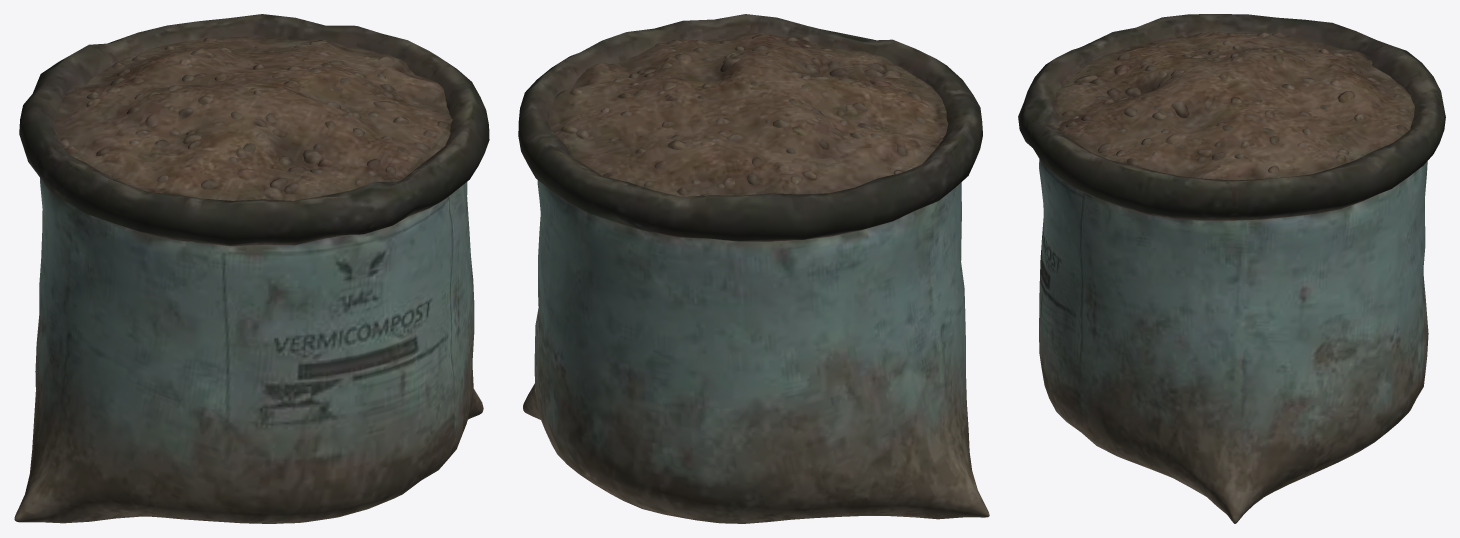
The model's file is compost_bag_02.glb.
3 renders of one model, left to right at view 1: azimuth 30°, elevation 25°; view 2: azimuth 150°, elevation 25°; view 3: azimuth 270°, elevation 25°, orthographic. The views are drawn at different scales.
Parts seen in each view (by area): view 1: compost_bag_02; view 2: compost_bag_02; view 3: compost_bag_02.
Part boxes in pixels (bbox=[...]): compost_bag_02: bbox=[14, 14, 489, 523]; compost_bag_02: bbox=[518, 14, 989, 523]; compost_bag_02: bbox=[1018, 14, 1445, 523].
Bounding box in the file's own units: 0.5393 × 0.4337 × 0.4705.
1 material, 1 textured.
